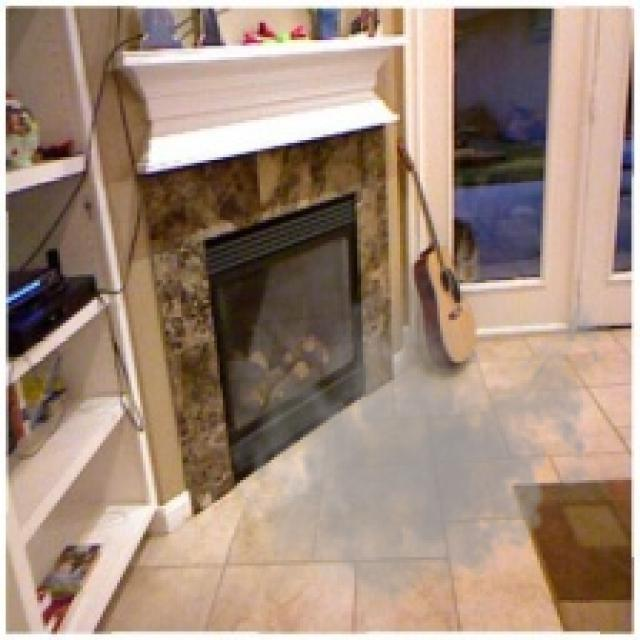Smoke: (226, 234, 614, 632)
